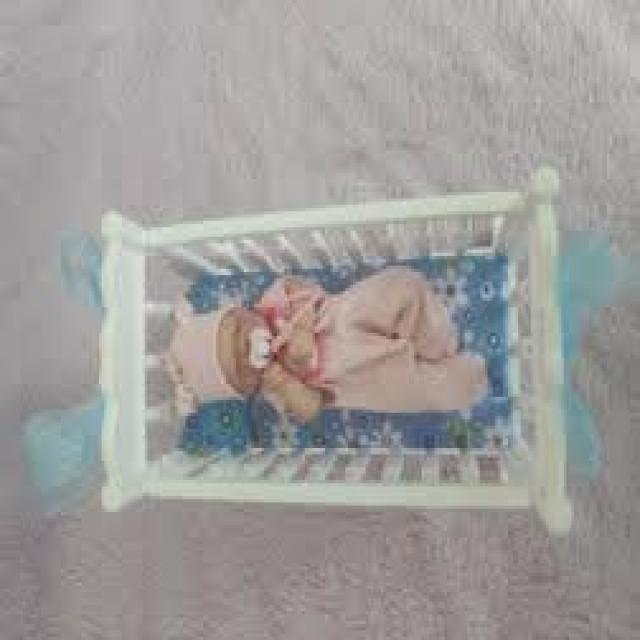crib: (94, 210, 548, 504)
